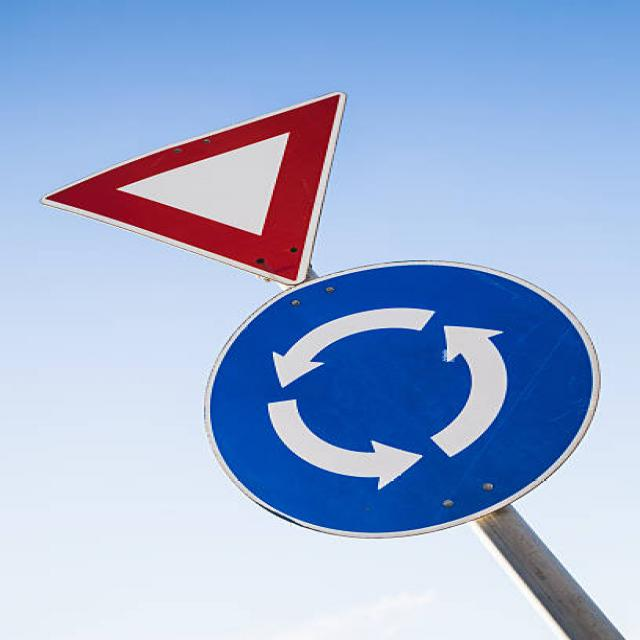give_way: (23, 79, 358, 285)
